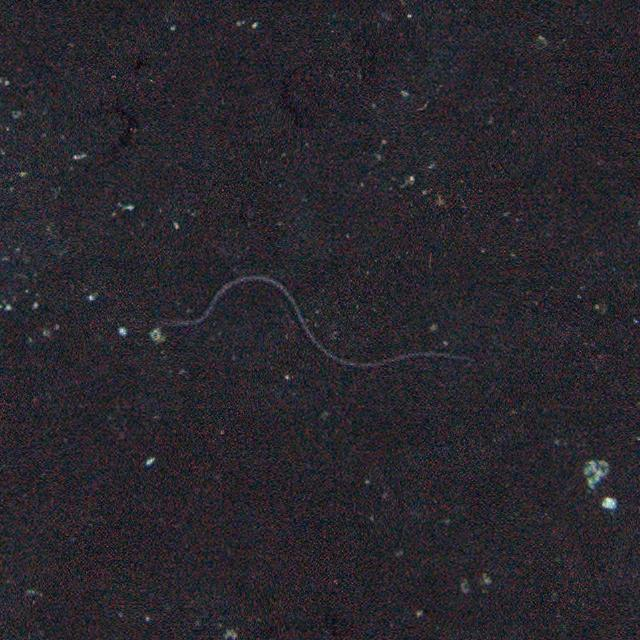eel: (155, 274, 478, 374)
